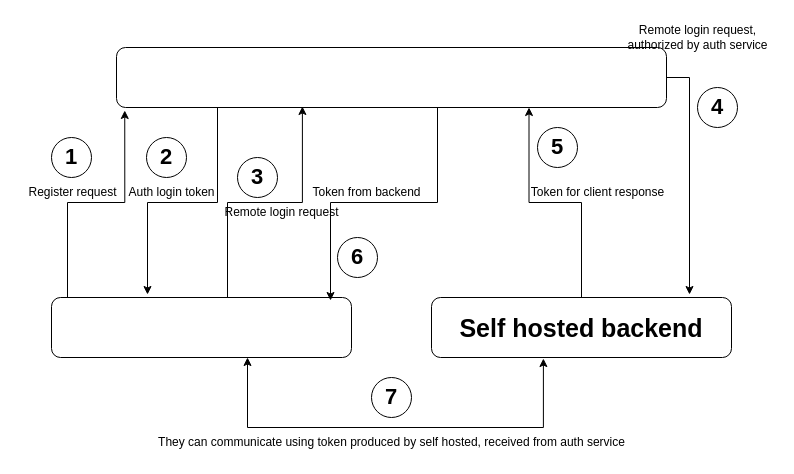
Image size: 794x474. Some labels were removed from this diagram. Each missing label, with the box of its shape:
Auth service: (116, 46, 666, 108)
Cient: (50, 296, 352, 358)
